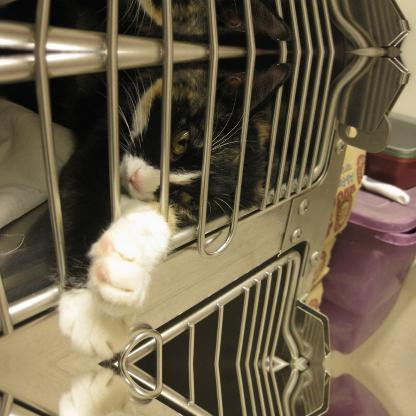Cat: (61, 63, 289, 358)
